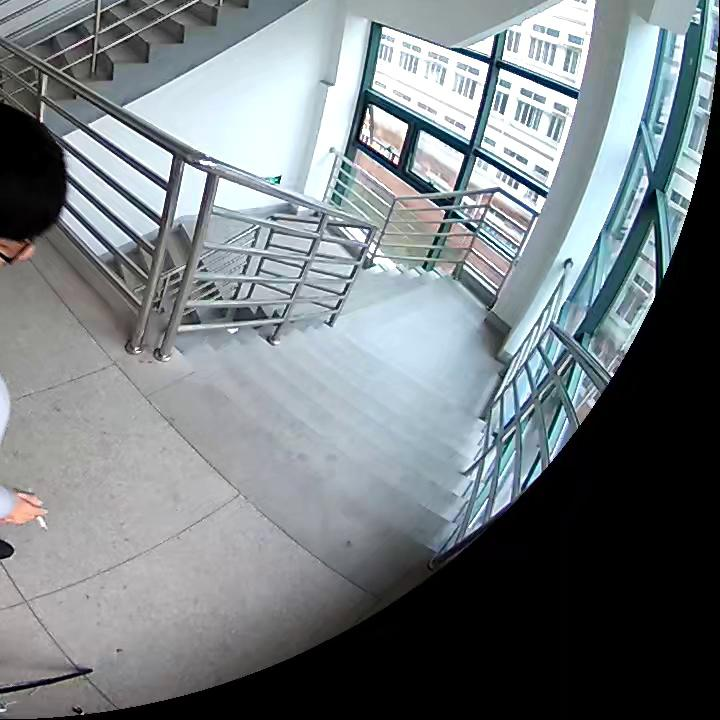handsmoke: (11, 486, 52, 535)
